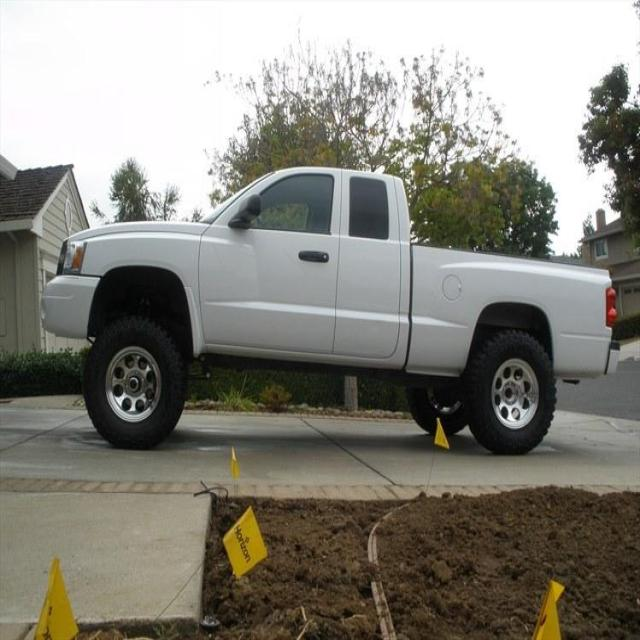Truck: (38, 117, 611, 452)
